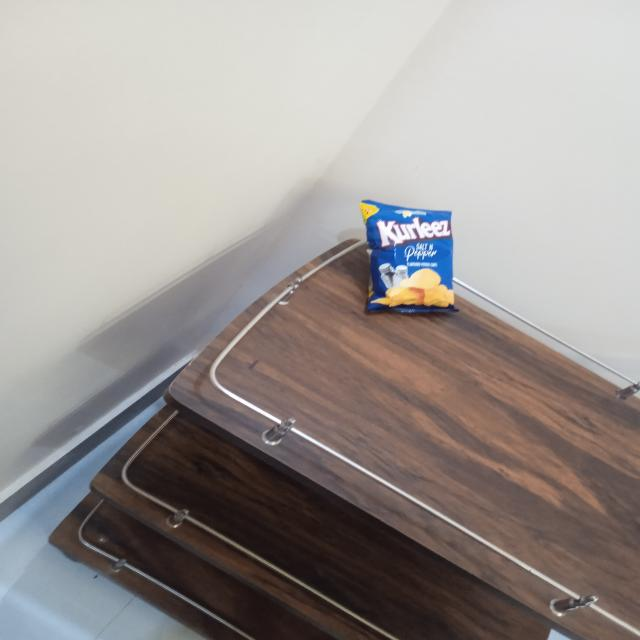Plastic: (358, 198, 464, 318)
